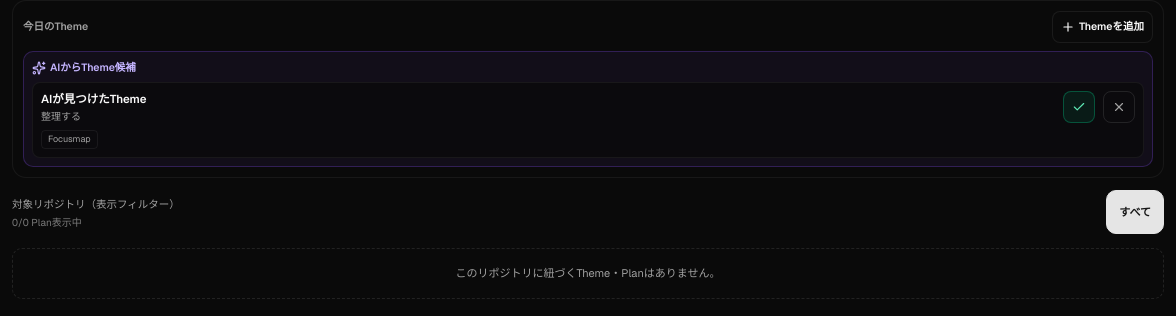
Scenario: ThemePlanBoard › AI候補は採用ボタンで当日のThemeへ昇格する
Expected: the text "AIが見つけたTheme" is shown, [41, 91, 146, 106]
Click the button named "AIが見つけたThemeを採用".
click(1079, 107)  # box [1063, 91, 1095, 123]
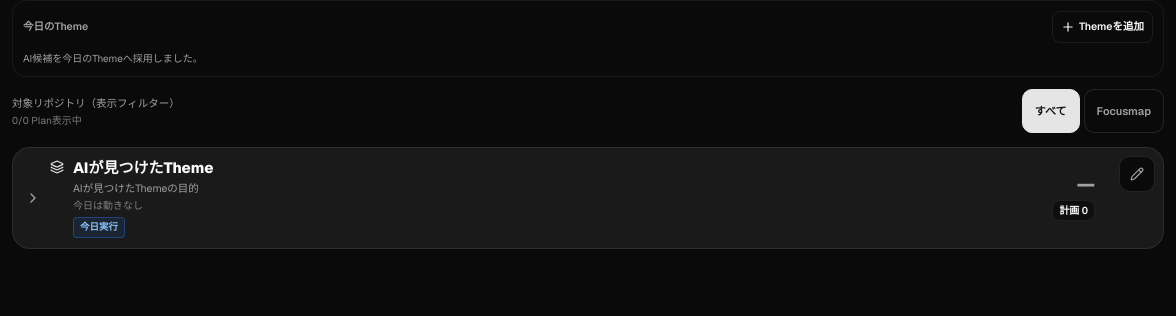
Expected: the text "AI候補を今日のThemeへ採用しました。" is shown, [23, 52, 203, 65]
